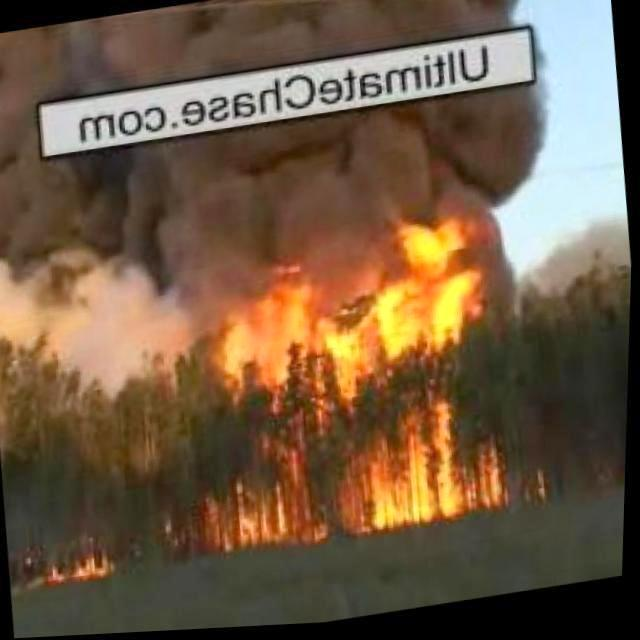fire: (170, 216, 518, 560), (34, 545, 134, 587)
